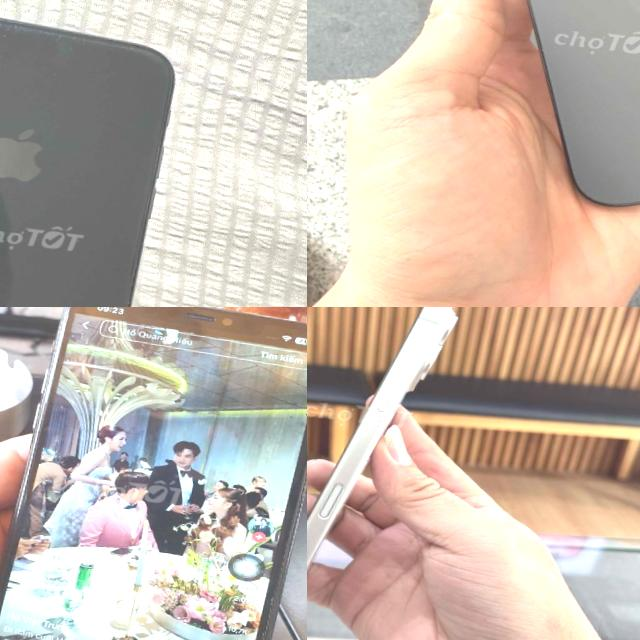scratch: (0, 1, 98, 72)
